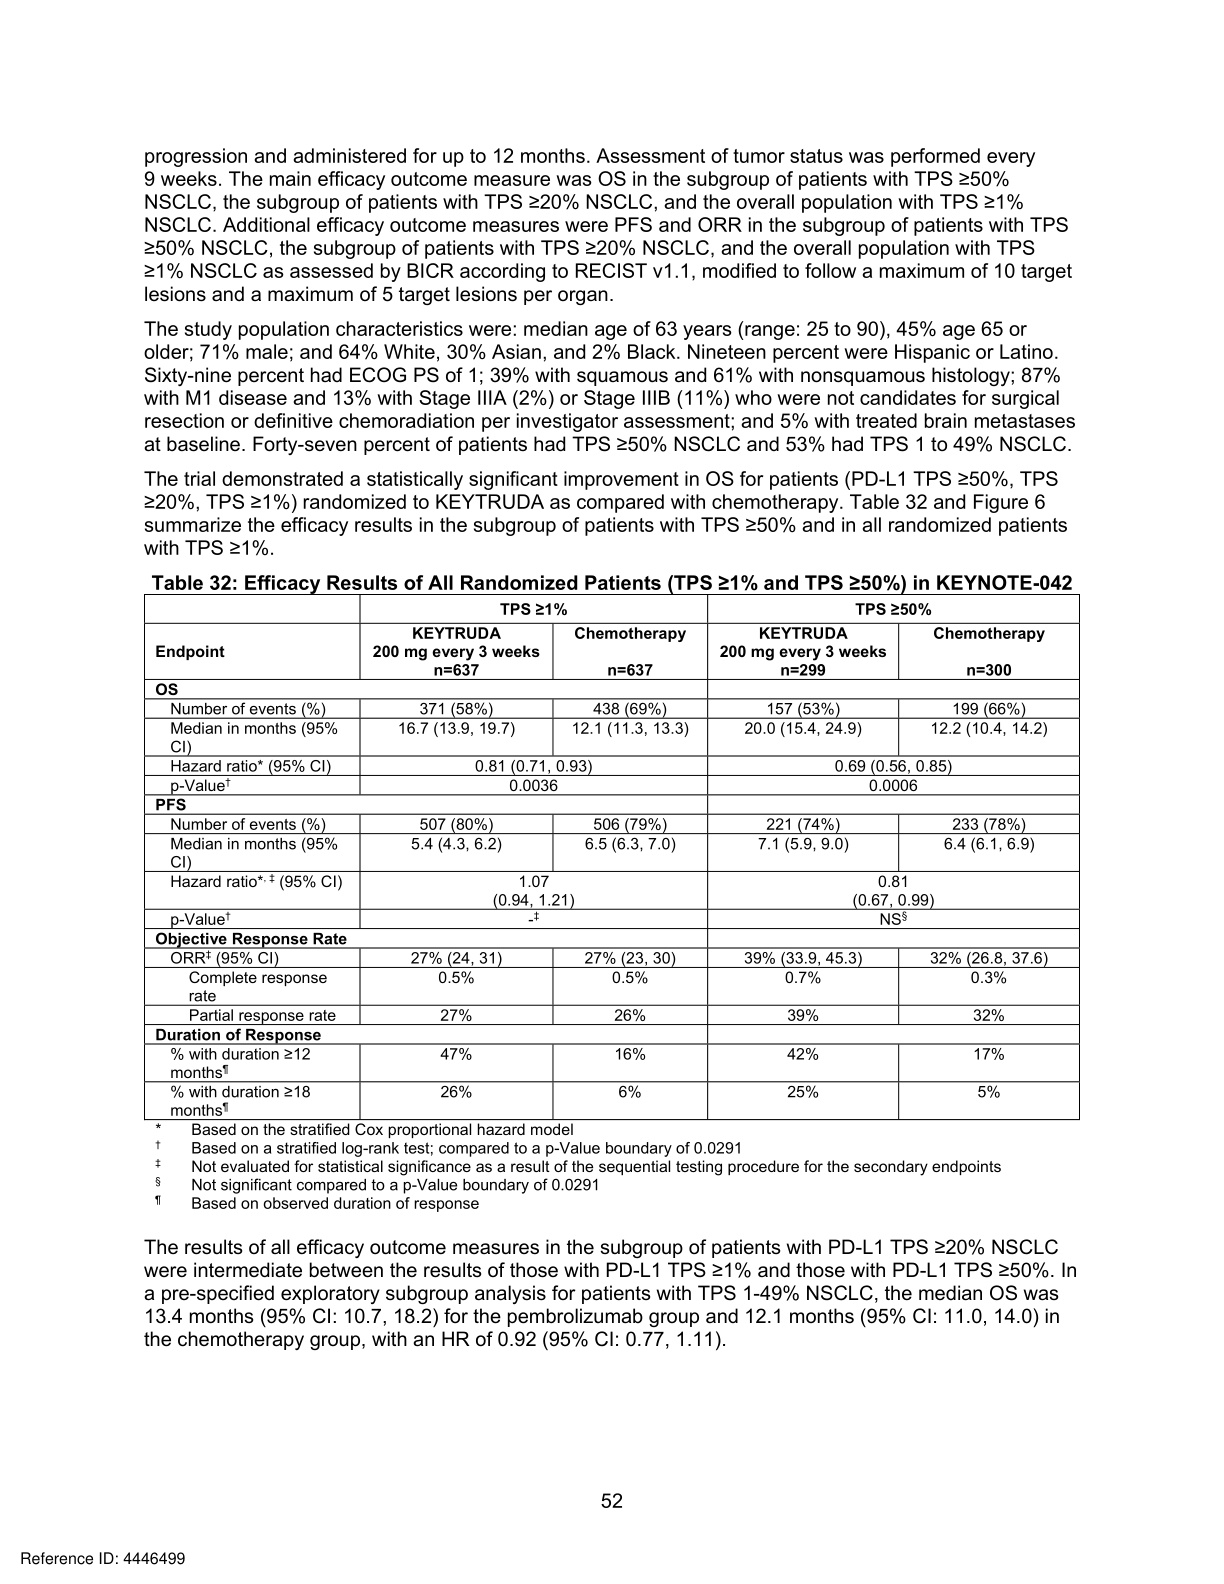merged_cells: (143, 593, 1081, 1121)
